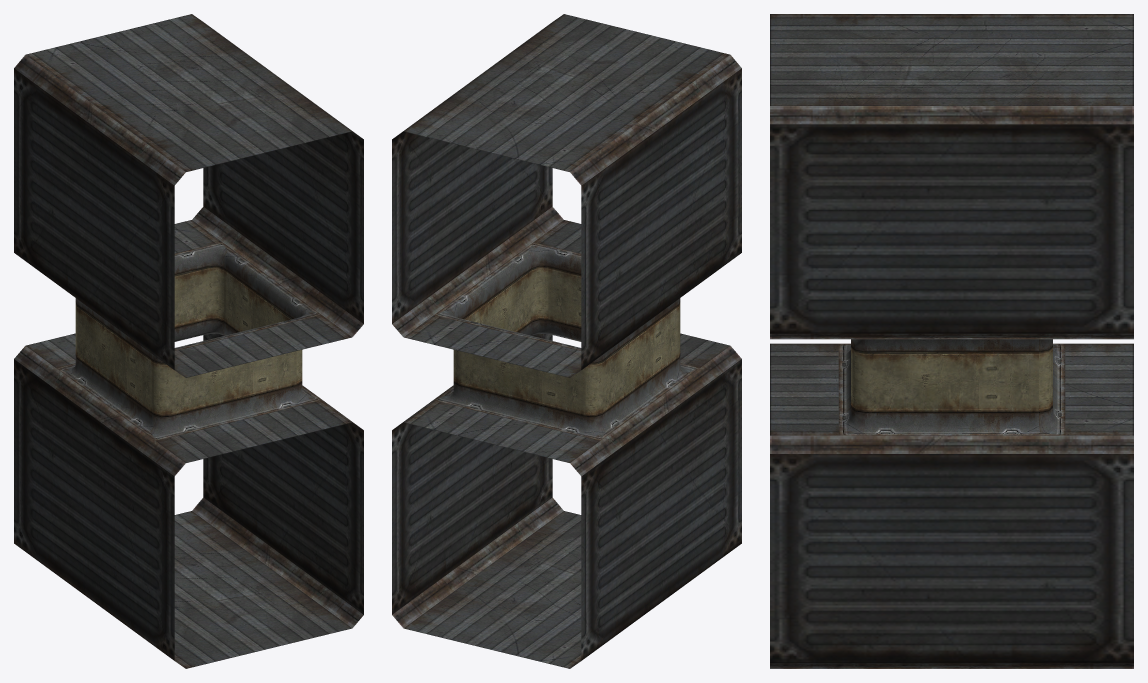
The model's file is trainstation_maintenance_tunnels_drop.dae.
3 views of the same model, side by side, from view 1: azimuth 30°, elevation 25°; view 2: azimuth 150°, elevation 25°; view 3: azimuth 270°, elevation 25° (orthographic). The views are drawn at different scales.
Visible parts, largest first — view 1: straight_drop_down; view 2: straight_drop_down; view 3: straight_drop_down.
Boxes of the visible parts, x1,y1,x2,y2 form: straight_drop_down: (14, 14, 363, 668); straight_drop_down: (392, 14, 741, 668); straight_drop_down: (770, 14, 1133, 668).
Size of the model in its own units: 1.36 by 3.41 by 2.
